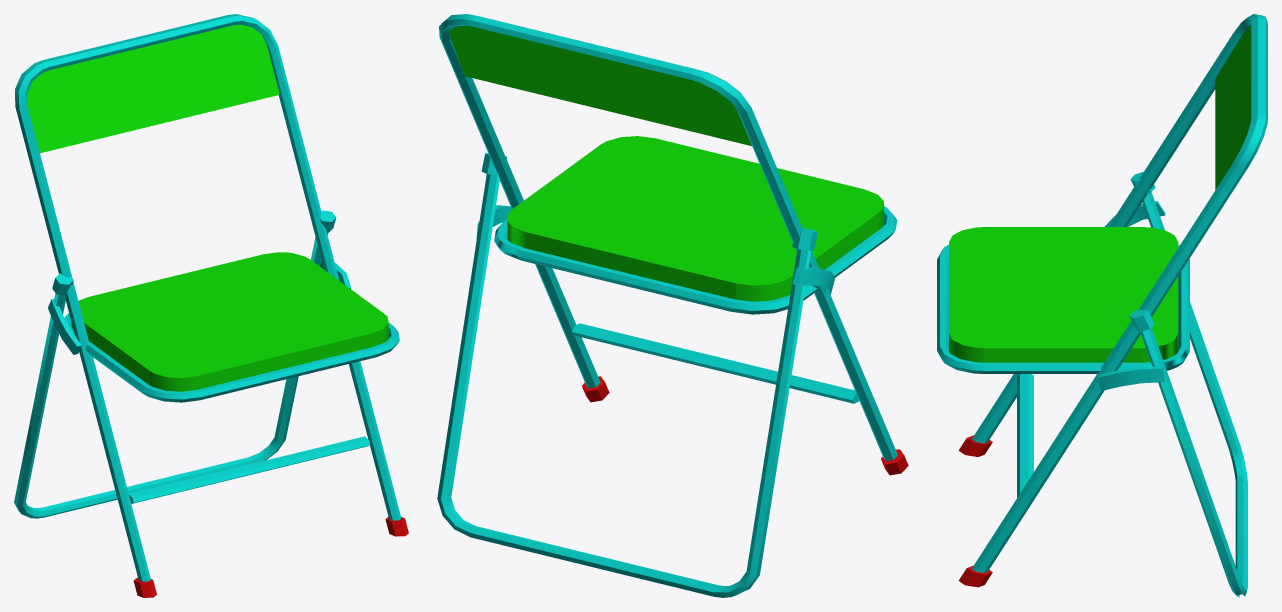
File: Chair.fbx
3 renders of one model, left to right at view 1: azimuth 30°, elevation 25°; view 2: azimuth 150°, elevation 25°; view 3: azimuth 270°, elevation 25°, orthographic. The views are drawn at different scales.
Visible parts, largest first — view 1: 철제의자완성품; view 2: 철제의자완성품; view 3: 철제의자완성품.
Part boxes in pixels (x1,y1,x2,y2): 철제의자완성품: (14, 14, 408, 597); 철제의자완성품: (437, 14, 908, 597); 철제의자완성품: (937, 14, 1267, 597).
Bounding box in the file's own units: 176 × 267 × 169.
